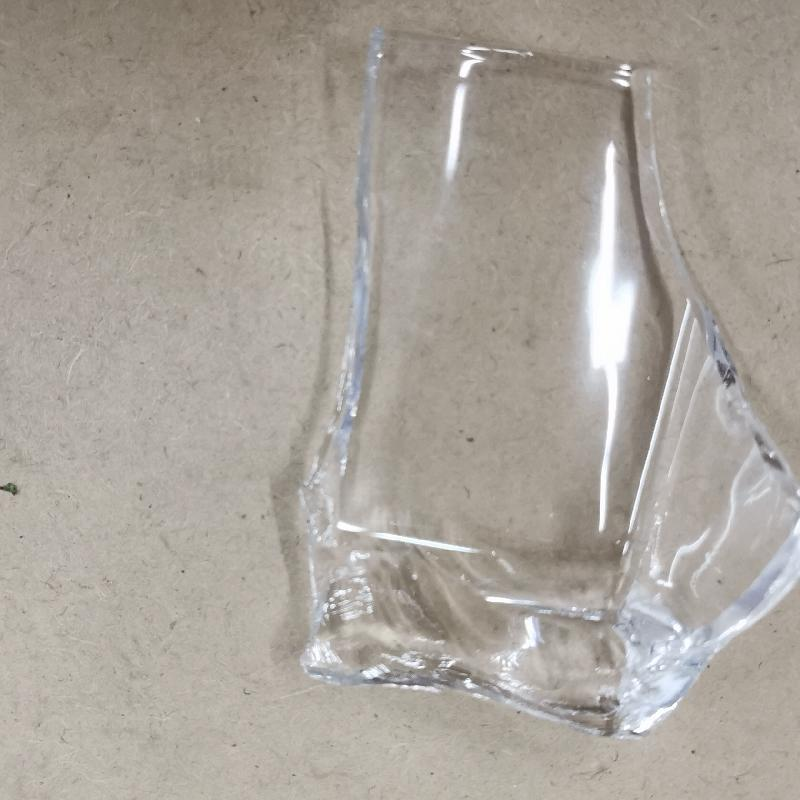glass: (298, 24, 799, 734)
